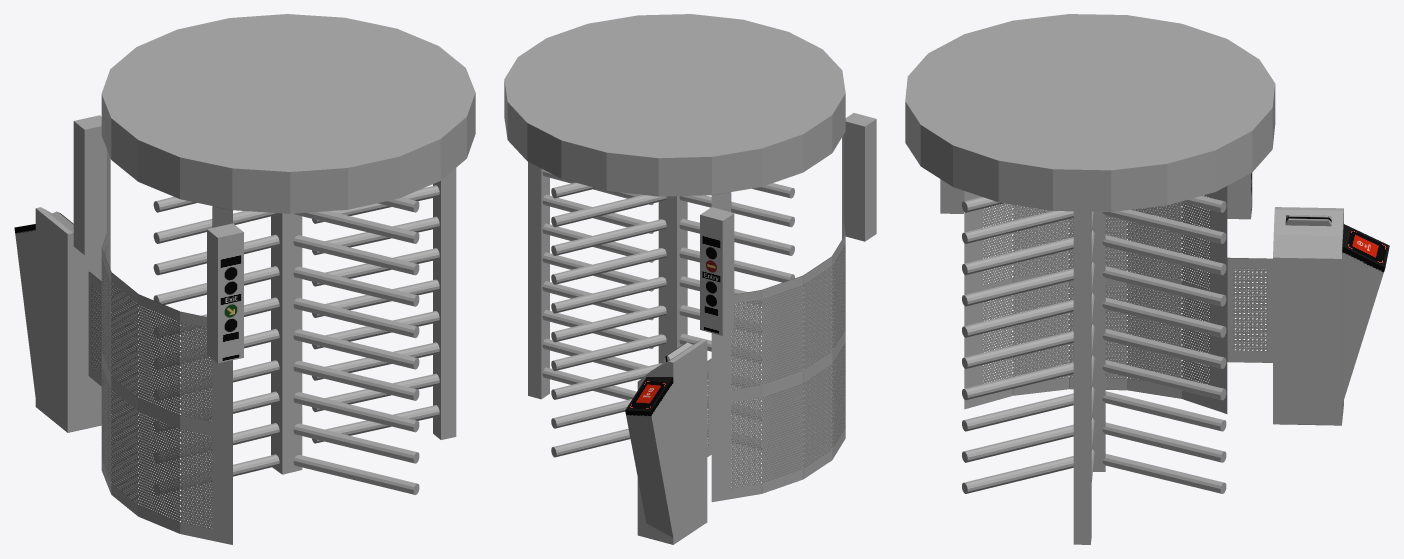
File: nyc_subway_fare_gate_2_exit_closed.obj
3 views of the same model, side by side, from view 1: azimuth 30°, elevation 25°; view 2: azimuth 150°, elevation 25°; view 3: azimuth 270°, elevation 25° (orthographic). The views are drawn at different scales.
Parts seen in each view (by area): view 1: top, wall, cube, turnstile3, turnstileStatic, turnstile1, turnstileRod, staticRod; view 2: top, wall, cube, turnstile2, turnstileStatic, staticRod, turnstile1, turnstileRod; view 3: top, wall, cube, turnstile2, turnstile3, staticRod, turnstileRod, turnstileStatic.
Part boxes in pixels (x1=…): top: x1=101, y1=14, x2=475, y2=213; wall: x1=101, y1=150, x2=232, y2=544; cube: x1=14, y1=115, x2=243, y2=432; turnstile3: x1=293, y1=197, x2=419, y2=494; turnstileStatic: x1=312, y1=185, x2=439, y2=443; turnstile1: x1=153, y1=197, x2=279, y2=494; turnstileRod: x1=271, y1=213, x2=302, y2=474; staticRod: x1=433, y1=168, x2=456, y2=439; top: x1=504, y1=14, x2=845, y2=196; wall: x1=711, y1=135, x2=845, y2=501; cube: x1=625, y1=113, x2=876, y2=544; turnstile2: x1=551, y1=182, x2=666, y2=457; turnstileStatic: x1=542, y1=169, x2=653, y2=399; staticRod: x1=528, y1=162, x2=549, y2=399; turnstile1: x1=679, y1=183, x2=794, y2=449; turnstileRod: x1=658, y1=196, x2=687, y2=363; top: x1=905, y1=14, x2=1275, y2=211; wall: x1=964, y1=186, x2=1227, y2=413; cube: x1=940, y1=173, x2=1389, y2=425; turnstile2: x1=1102, y1=196, x2=1226, y2=493; turnstile3: x1=962, y1=197, x2=1073, y2=493; staticRod: x1=1073, y1=211, x2=1091, y2=544; turnstileRod: x1=1092, y1=211, x2=1105, y2=471; turnstileStatic: x1=1091, y1=211, x2=1094, y2=481.
Size of the model in its own units: 2.01 by 2.25 by 2.63.
1 material, 1 textured.
